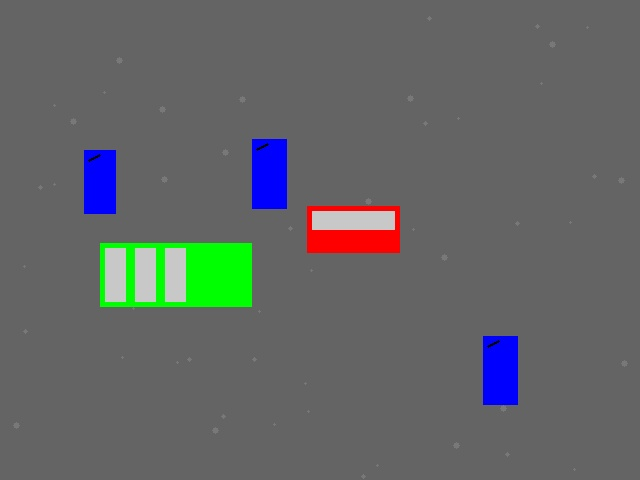bus: (100, 243, 251, 306)
car: (307, 206, 399, 252)
motorcycle: (252, 139, 286, 208), (483, 336, 517, 404), (84, 150, 115, 213)
